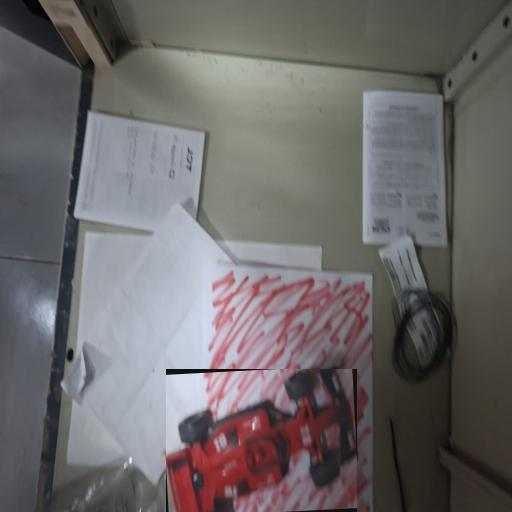carro: (165, 369, 355, 511)
